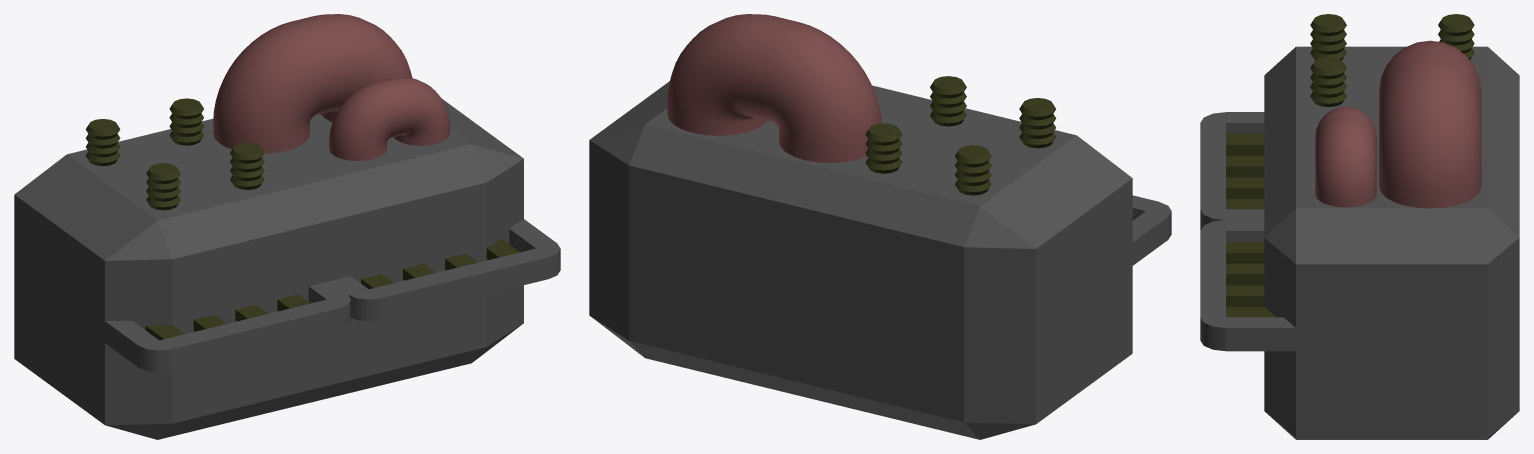
The model's file is System_Generic_01.fbx.
3 views of the same model, side by side, from view 1: azimuth 30°, elevation 25°; view 2: azimuth 150°, elevation 25°; view 3: azimuth 270°, elevation 25° (orthographic). The views are drawn at different scales.
Parts seen in each view (by area): view 1: block_bevel, pipe_smallBend (×4), grate_square (×2), tube_rubber (×4); view 2: block_bevel, pipe_smallBend (×2), tube_rubber (×4), grate_square; view 3: block_bevel, pipe_smallBend (×4), grate_square (×2), tube_rubber (×3).
Part boxes in pixels (<box>): block_bevel: <box>14,99,523,439</box>; pipe_smallBend (×4): <box>213,14,449,160</box>; grate_square (×2): <box>41,219,560,372</box>; tube_rubber (×4): <box>85,98,264,210</box>; block_bevel: <box>589,81,1132,439</box>; pipe_smallBend (×2): <box>667,14,881,162</box>; tube_rubber (×4): <box>865,76,1056,195</box>; grate_square: <box>1065,195,1171,295</box>; block_bevel: <box>1264,46,1519,439</box>; pipe_smallBend (×4): <box>1315,40,1481,208</box>; grate_square (×2): <box>1200,112,1430,351</box>; tube_rubber (×3): <box>1310,14,1474,106</box>.
Size of the model in its own units: 20 by 14.5 by 12.5.
